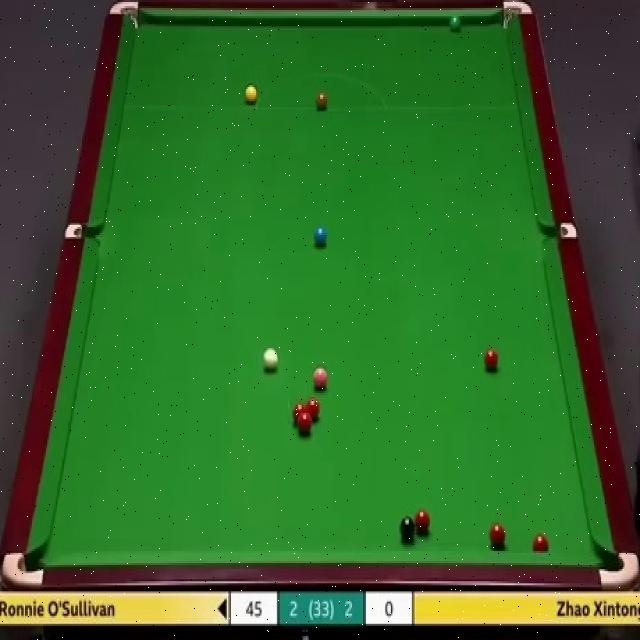black-ball: (400, 515, 416, 544)
blue-ball: (315, 227, 329, 249)
brown-ball: (316, 88, 328, 110)
green-ball: (448, 14, 461, 30)
pink-ball: (312, 366, 330, 393)
red-ball: (488, 521, 507, 545), (298, 410, 312, 439), (485, 347, 501, 372), (306, 395, 321, 418), (532, 533, 550, 552), (415, 509, 429, 533), (294, 400, 306, 423)
white-ball: (264, 346, 278, 374)
yellow-ball: (244, 86, 258, 105)
